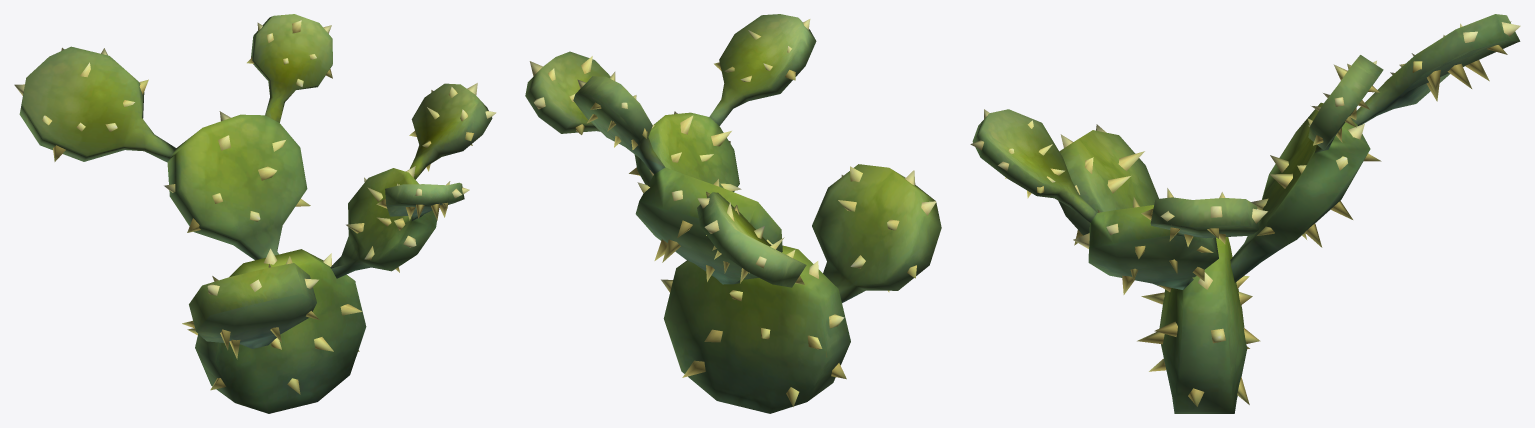
Rendered from nopal.obj.
The picture shows the model from 3 angles, left to right: view 1: azimuth 30°, elevation 25°; view 2: azimuth 150°, elevation 25°; view 3: azimuth 270°, elevation 25°; orthographic projection. The views are drawn at different scales.
Parts seen in each view (by area): view 1: element3ds_com_UE022; view 2: element3ds_com_UE022; view 3: element3ds_com_UE022.
Part boxes in pixels (x1,y1,x2,y2): element3ds_com_UE022: (14, 14, 496, 413); element3ds_com_UE022: (525, 14, 941, 413); element3ds_com_UE022: (970, 14, 1520, 413).
Bounding box in the file's own units: 5.29 × 4.68 × 6.16.
